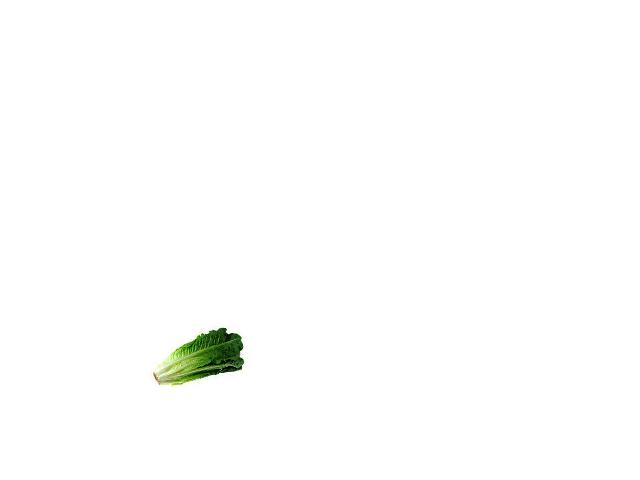lettuce: (148, 329, 246, 388)
